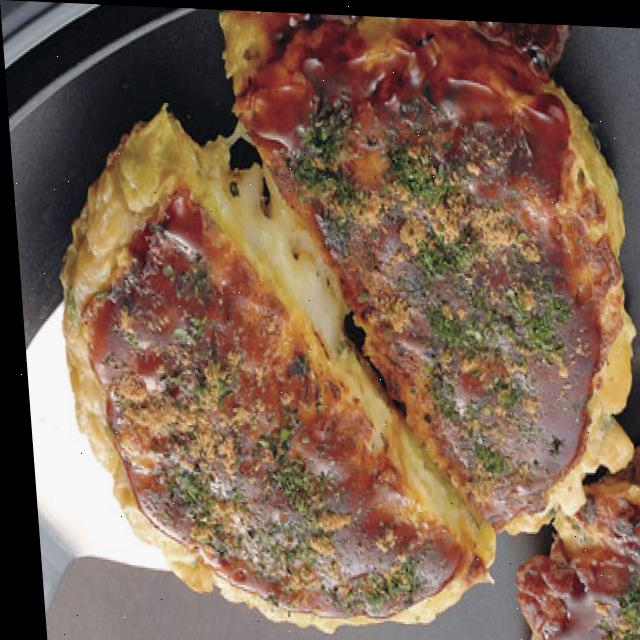蛋糕甜品: (47, 2, 640, 640)
